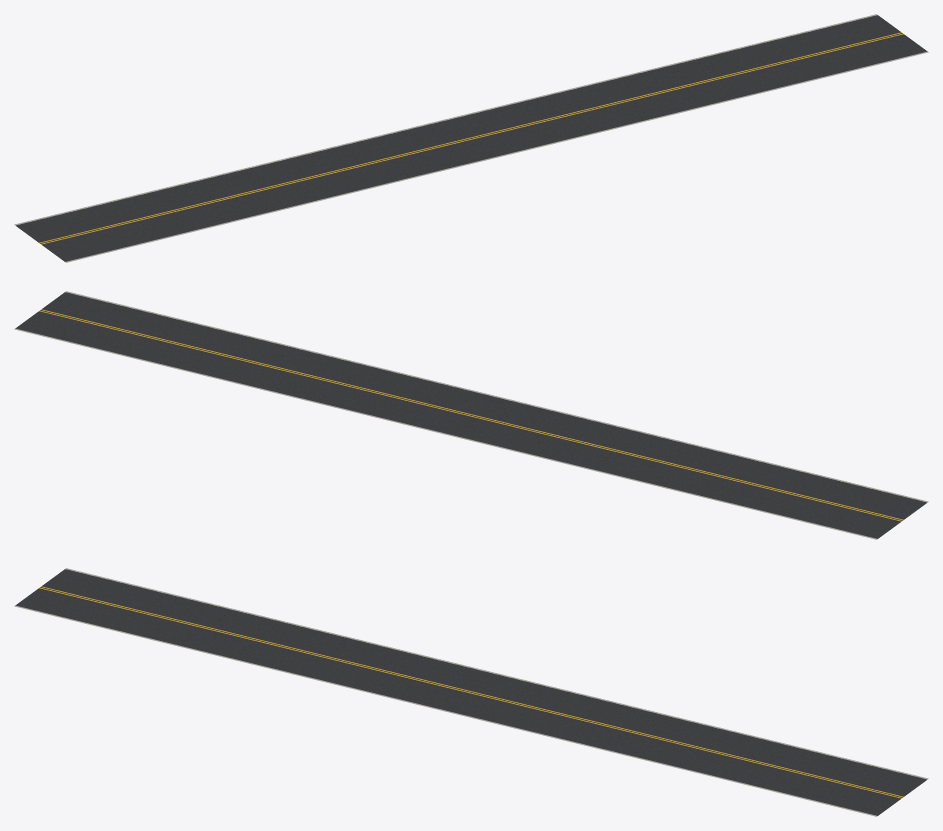
The model's file is road_a_StraightEW.gltf.
3 views of the same model, one above another, from view 1: azimuth 30°, elevation 25°; view 2: azimuth 150°, elevation 25°; view 3: azimuth 330°, elevation 25° (orthographic).
Visible parts, largest first — view 1: road_a_StraightEW; view 2: road_a_StraightEW; view 3: road_a_StraightEW.
Part boxes in pixels (<box>): road_a_StraightEW: <box>14,14,928,262</box>; road_a_StraightEW: <box>14,291,928,539</box>; road_a_StraightEW: <box>14,568,928,816</box>.
Bounding box in the file's own units: 60 × 0.0045 × 6.3.
2 materials, 2 textured.
